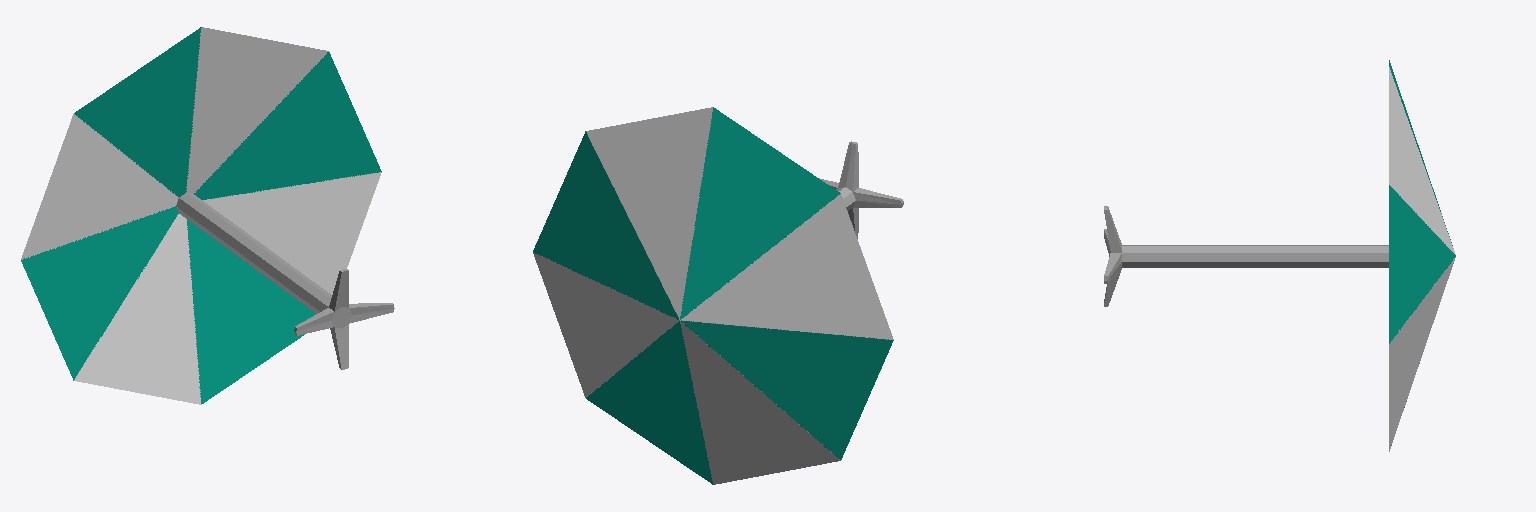
3 views of the same model, side by side, from view 1: azimuth 30°, elevation 25°; view 2: azimuth 150°, elevation 25°; view 3: azimuth 270°, elevation 25° (orthographic).
Visible parts, largest first — view 1: store-umbrella-green_Circle.018; view 2: store-umbrella-green_Circle.018; view 3: store-umbrella-green_Circle.018.
Part boxes in pixels (left/top/right/bottom): store-umbrella-green_Circle.018: left=21, top=27, right=394, bottom=404; store-umbrella-green_Circle.018: left=533, top=107, right=903, bottom=484; store-umbrella-green_Circle.018: left=1104, top=60, right=1455, bottom=451.
Size of the model in its own units: 3.06 by 3.06 by 2.58.
1 materials, 1 textured.